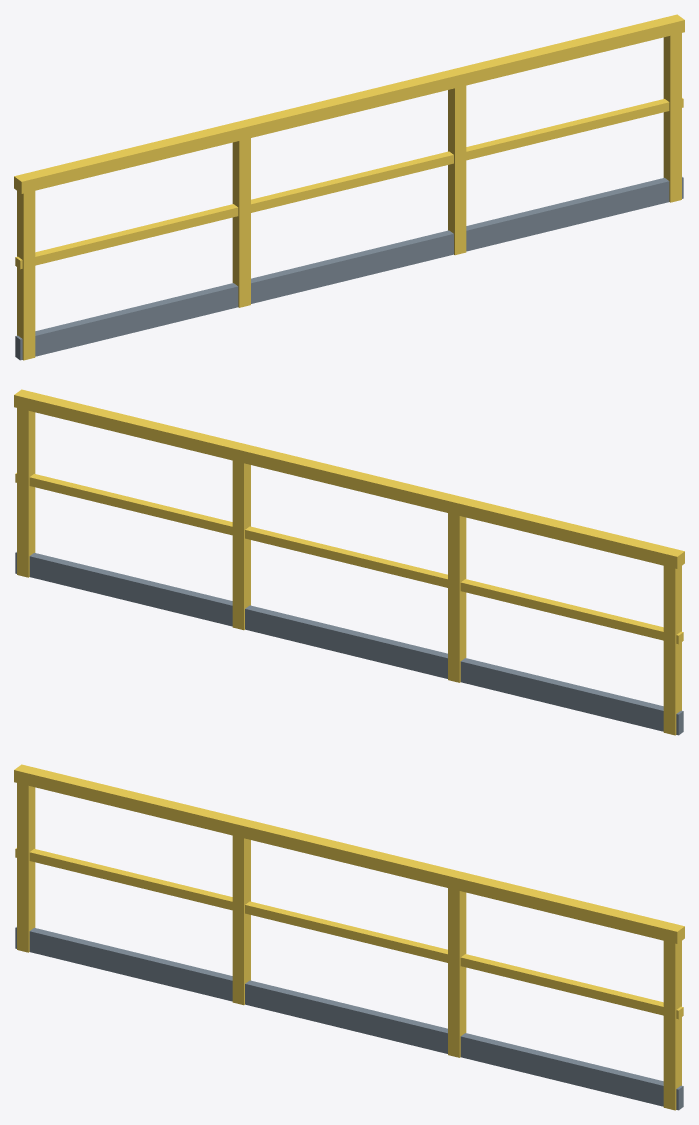
Rendered from WH_Railing.fbx.
3 renders of one model, top to bottom at view 1: azimuth 30°, elevation 25°; view 2: azimuth 150°, elevation 25°; view 3: azimuth 330°, elevation 25°, orthographic.
Parts seen in each view (by area): view 1: WH_Railing; view 2: WH_Railing; view 3: WH_Railing.
Boxes of the visible parts, x1,y1,x2,y2 form: WH_Railing: [14, 14, 684, 360]; WH_Railing: [14, 389, 684, 735]; WH_Railing: [14, 764, 684, 1110].
Size of the model in its own units: 4 by 1.03 by 0.08.
